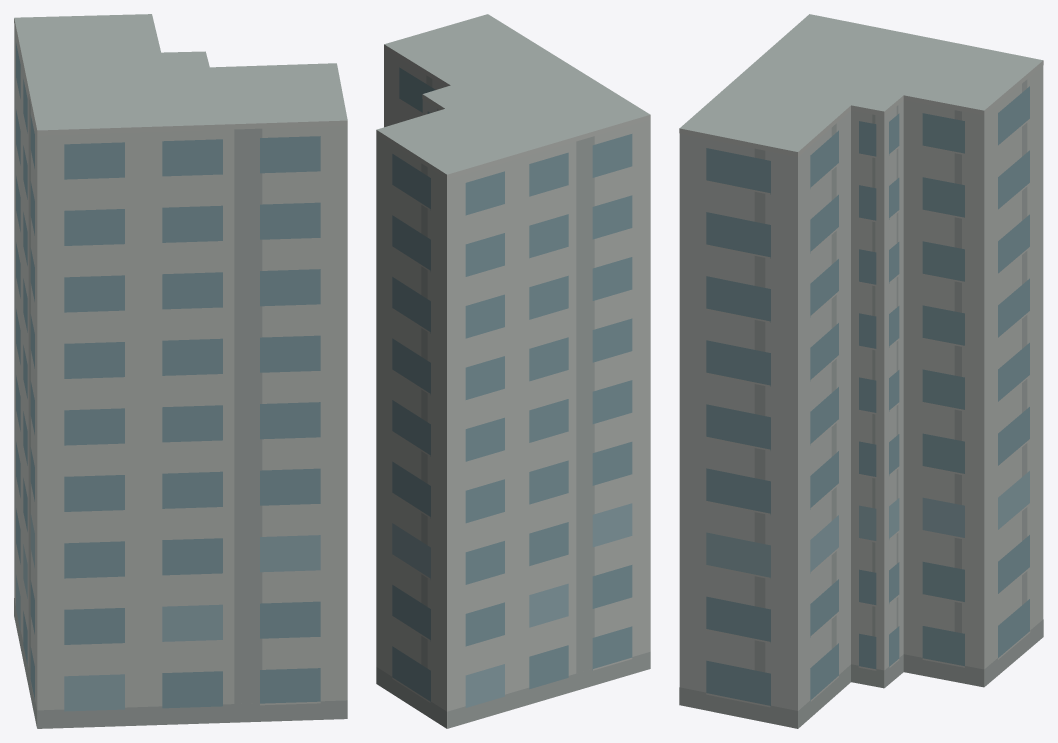
Rendered from survey-upis-32631574.glb.
The picture shows the model from 3 angles, left to right: view 1: azimuth 30°, elevation 25°; view 2: azimuth 150°, elevation 25°; view 3: azimuth 270°, elevation 25°; orthographic projection. The views are drawn at different scales.
Visible parts, largest first — view 1: survey-upis-32631574.tmp; view 2: survey-upis-32631574.tmp; view 3: survey-upis-32631574.tmp.
Boxes of the visible parts, <box> form: survey-upis-32631574.tmp: <box>14,14,347,728</box>; survey-upis-32631574.tmp: <box>376,14,650,728</box>; survey-upis-32631574.tmp: <box>679,14,1043,728</box>.
Bounding box in the file's own units: 14.11 × 27.45 × 15.71.
